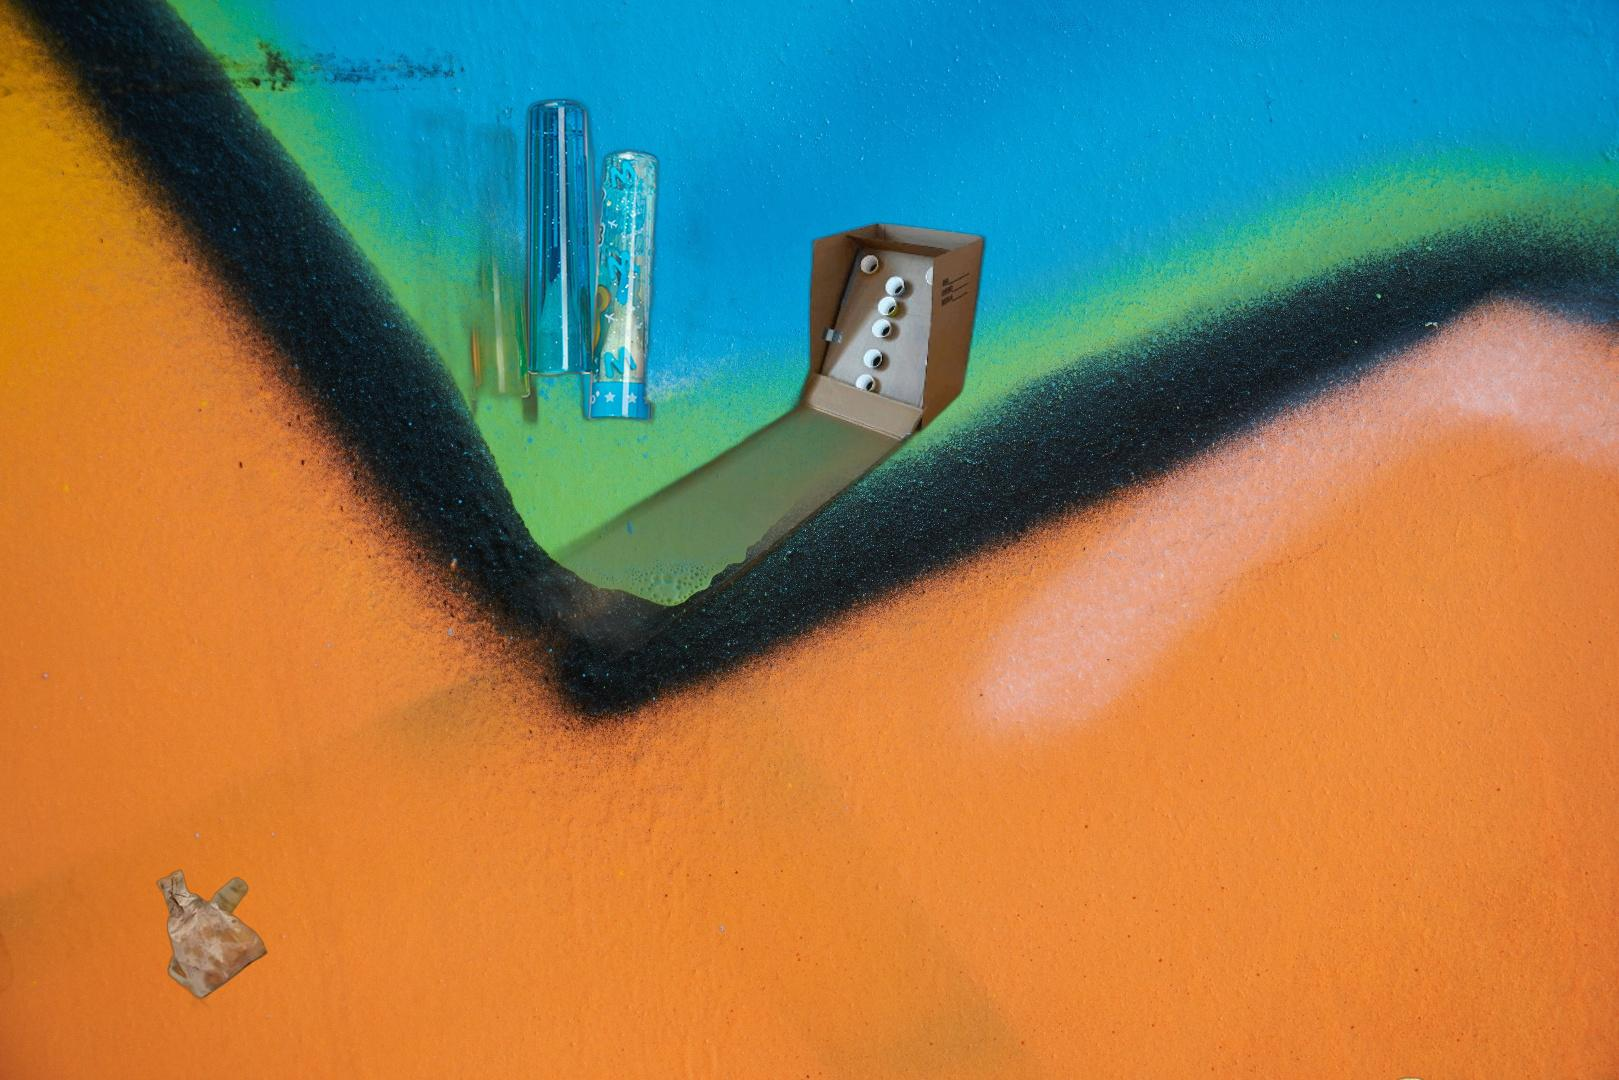biological: (1354, 1074, 1572, 1080)
paper-bag: (154, 867, 270, 1014)
penholder: (401, 76, 800, 609)
trashbox-cardboard: (387, 219, 992, 695)
